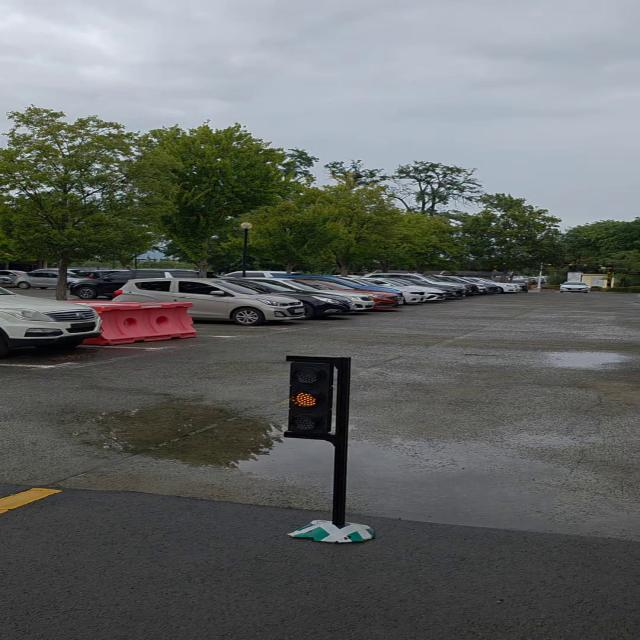yellow: (284, 353, 346, 446)
